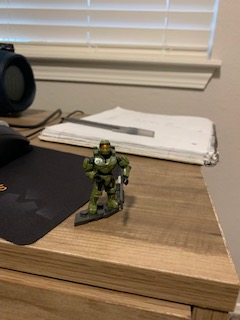chief: (82, 135, 132, 216)
rifle: (113, 168, 126, 210)
spartan: (80, 133, 130, 214)
